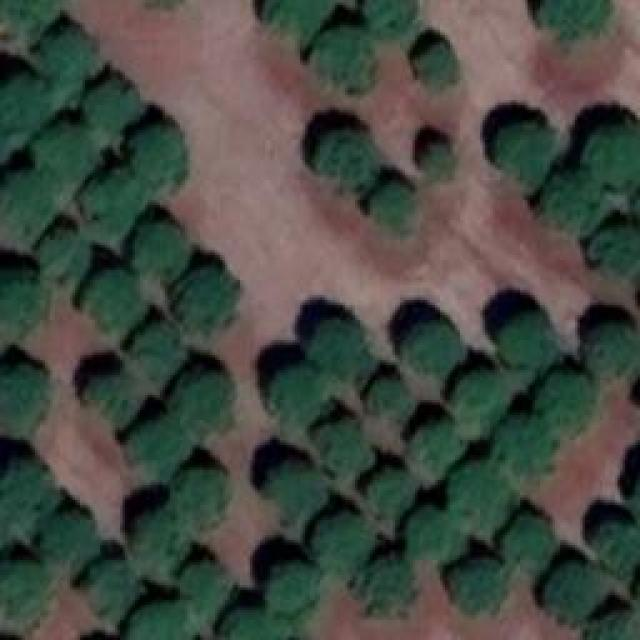Tree: (538, 562, 607, 631), (168, 367, 240, 432), (125, 505, 193, 570), (37, 120, 102, 186), (310, 310, 373, 378), (88, 172, 151, 240), (40, 505, 100, 576), (0, 160, 52, 241), (310, 25, 373, 90), (312, 128, 377, 190), (592, 213, 640, 296), (406, 320, 464, 388), (444, 462, 504, 527), (583, 318, 636, 391), (318, 515, 381, 576), (83, 275, 146, 336), (267, 365, 331, 425), (270, 465, 334, 524), (590, 115, 640, 190), (128, 418, 188, 480), (130, 223, 195, 280), (0, 75, 58, 138), (448, 550, 504, 615), (495, 510, 554, 571), (355, 560, 413, 621), (413, 415, 471, 475), (365, 178, 423, 237), (35, 223, 93, 282), (498, 313, 555, 373), (130, 130, 190, 187), (458, 370, 512, 433), (590, 517, 640, 585), (0, 555, 40, 640), (265, 550, 329, 603), (495, 125, 553, 183), (548, 372, 598, 439), (498, 418, 552, 480), (170, 470, 232, 524), (50, 30, 103, 93), (0, 357, 43, 434), (2, 455, 46, 530), (88, 75, 145, 132), (545, 175, 601, 233), (88, 555, 144, 613), (175, 268, 232, 324), (405, 508, 461, 564), (537, 0, 603, 47), (0, 0, 61, 49), (0, 270, 38, 346), (133, 320, 186, 374), (273, 0, 330, 50), (368, 465, 419, 519), (318, 423, 370, 475), (370, 375, 423, 426), (83, 368, 140, 415), (123, 610, 208, 640), (183, 558, 236, 604), (413, 135, 461, 184), (357, 0, 416, 38), (223, 605, 284, 639), (592, 600, 640, 640), (415, 43, 457, 87)
